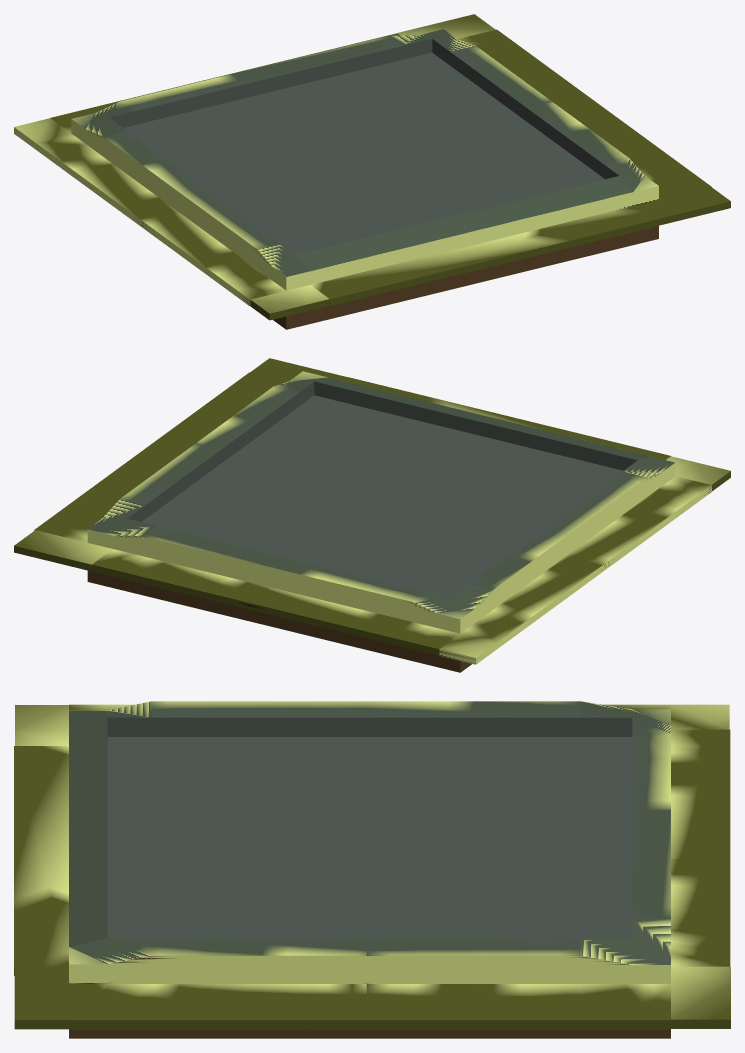
The model's file is TABLERO.fbx.
3 renders of one model, top to bottom at view 1: azimuth 30°, elevation 25°; view 2: azimuth 150°, elevation 25°; view 3: azimuth 270°, elevation 25°, orthographic. The views are drawn at different scales.
Visible parts, largest first — view 1: Cube; view 2: Cube; view 3: Cube.
Boxes of the visible parts, box(x1,y1,x2,y2) form: Cube: box(14, 14, 730, 329); Cube: box(14, 358, 730, 672); Cube: box(14, 701, 730, 1038).
Size of the model in its own units: 49616 by 6073 by 47629.
1 material, 1 textured.
